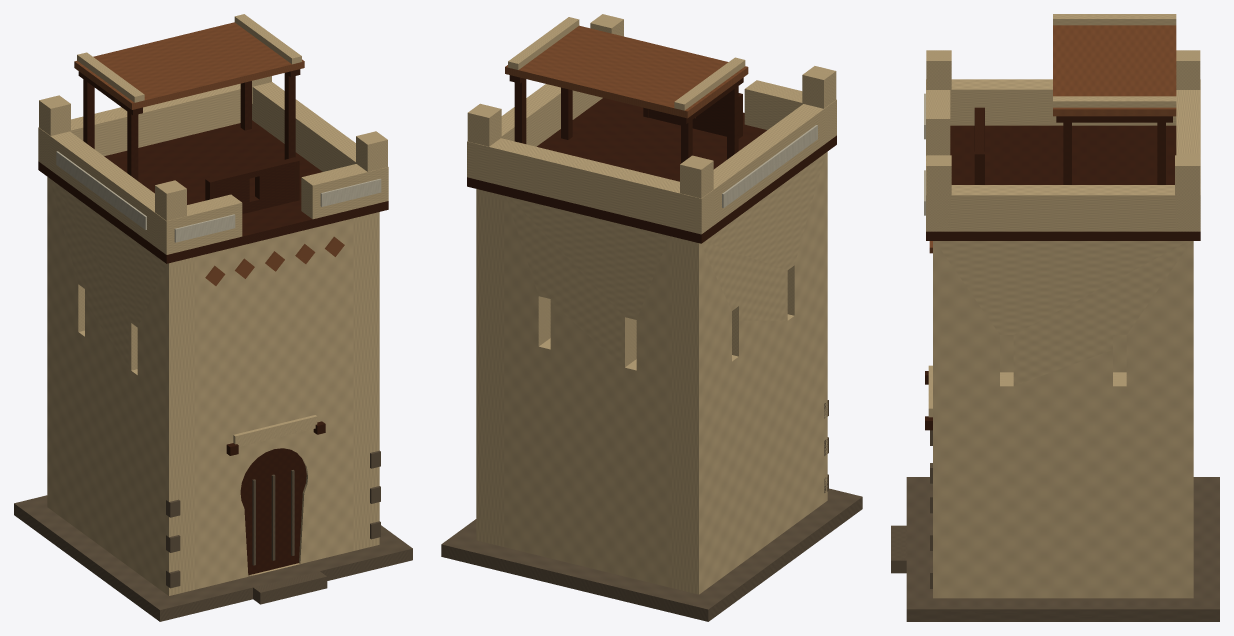
Rendered from Berber_Outpost_Age4_arrowslits.fbx.
3 views of the same model, side by side, from view 1: azimuth 30°, elevation 25°; view 2: azimuth 150°, elevation 25°; view 3: azimuth 270°, elevation 25° (orthographic). The views are drawn at different scales.
Visible parts, largest first — view 1: west_thick_wall, south_thick_wall, lookout_floor, tower_foundation, fitted_flat_canopy, east_thick_wall, lookout_parapet_back, horseshoe_door, lookout_parapet_side.001, lookout_parapet_side, arrow_shield_panel, lookout_parapet_front.001 (+15 smaller); view 2: north_thick_wall, west_thick_wall, tower_foundation, lookout_floor, lookout_parapet_back, fitted_flat_canopy, east_thick_wall, lookout_parapet_side, lookout_parapet_side.001, lookout_parapet_front, neutral_owner_side_band, corner_merlon.003 (+8 smaller); view 3: east_thick_wall, lookout_floor, tower_foundation, lookout_parapet_side.001, fitted_flat_canopy, lookout_parapet_side, lookout_parapet_back, lookout_parapet_front, stone_crown_coping.001, stone_crown_coping, corner_merlon, corner_merlon.002 (+8 smaller).
Boxes of the visible parts, <box> form: west_thick_wall: <box>47,177,195,595</box>; south_thick_wall: <box>195,218,352,589</box>; lookout_floor: <box>38,120,388,263</box>; tower_foundation: <box>14,495,412,621</box>; fitted_flat_canopy: <box>74,22,304,109</box>; east_thick_wall: <box>353,212,379,550</box>; lookout_parapet_back: <box>38,83,240,168</box>; horseshoe_door: <box>240,448,306,575</box>; lookout_parapet_side.001: <box>252,82,355,171</box>; lookout_parapet_side: <box>49,131,160,248</box>; arrow_shield_panel: <box>211,158,294,213</box>; lookout_parapet_front.001: <box>301,164,388,219</box>; north_thick_wall: <box>504,196,670,587</box>; west_thick_wall: <box>671,152,827,594</box>; tower_foundation: <box>441,488,862,621</box>; lookout_floor: <box>467,98,836,243</box>; lookout_parapet_back: <box>467,138,713,234</box>; fitted_flat_canopy: <box>505,25,748,118</box>; east_thick_wall: <box>476,189,504,547</box>; lookout_parapet_side: <box>713,104,830,225</box>; lookout_parapet_side.001: <box>501,84,602,146</box>; lookout_parapet_front: <box>744,80,836,143</box>; neutral_owner_side_band: <box>722,125,817,207</box>; corner_merlon.003: <box>467,103,501,146</box>; east_thick_wall: <box>933,241,1193,598</box>; lookout_floor: <box>926,125,1200,240</box>; tower_foundation: <box>906,477,1219,621</box>; lookout_parapet_side.001: <box>938,185,1187,231</box>; fitted_flat_canopy: <box>1053,25,1176,116</box>; lookout_parapet_side: <box>950,79,1176,125</box>; lookout_parapet_back: <box>1176,79,1200,231</box>; lookout_parapet_front: <box>926,79,950,155</box>; stone_crown_coping.001: <box>1053,96,1176,107</box>; stone_crown_coping: <box>1053,14,1176,25</box>; corner_merlon: <box>926,50,951,108</box>; corner_merlon.002: <box>926,155,951,195</box>.
Size of the model in its own units: 360 by 632 by 378.
Materials: 5 (5 with a texture image).
